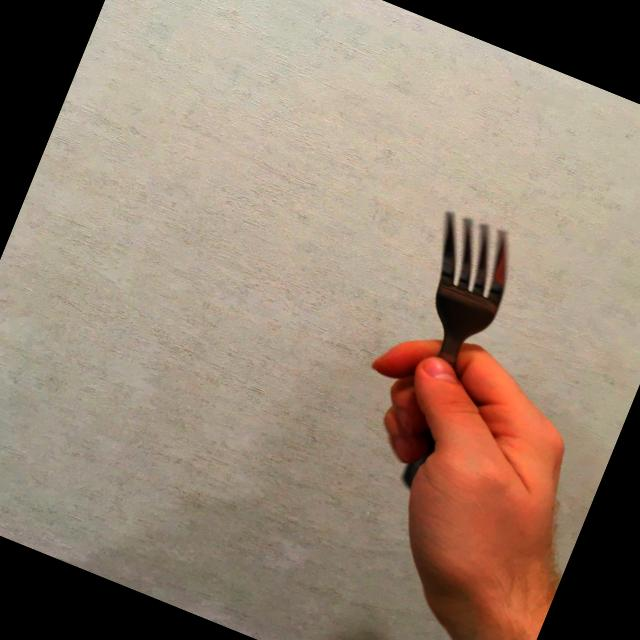fork: (342, 205, 530, 499)
